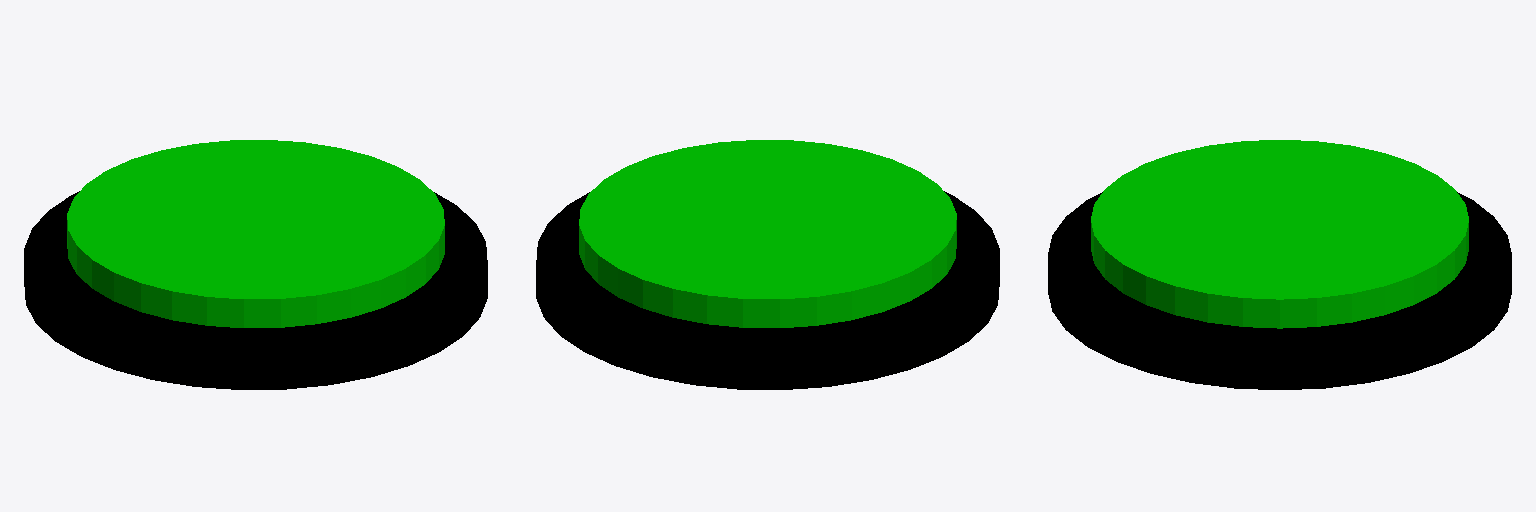
Rendered from GreenButton.obj.
3 renders of one model, left to right at view 1: azimuth 30°, elevation 25°; view 2: azimuth 150°, elevation 25°; view 3: azimuth 270°, elevation 25°, orthographic.
Parts seen in each view (by area): view 1: Cylinder; view 2: Cylinder; view 3: Cylinder.
Part boxes in pixels (x1,y1,x2,y2): Cylinder: (24, 140, 487, 389); Cylinder: (536, 140, 999, 389); Cylinder: (1048, 140, 1511, 389).
Size of the model in its own units: 3 by 0.5183 by 3.